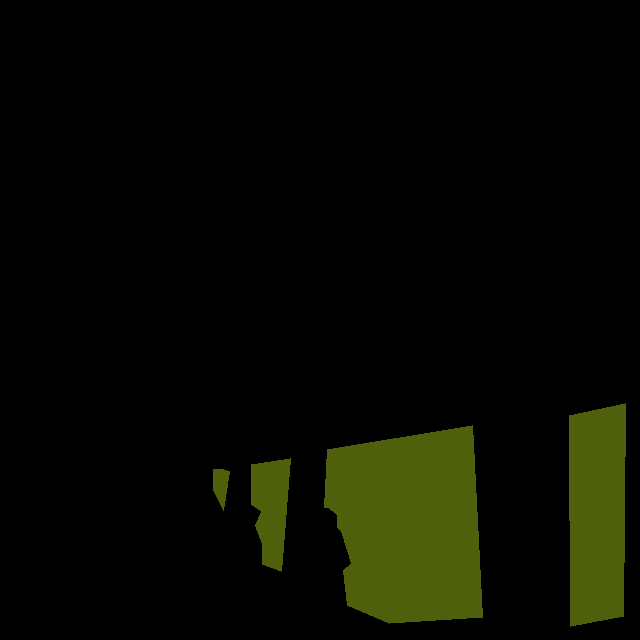Train: (213, 403, 625, 626)
